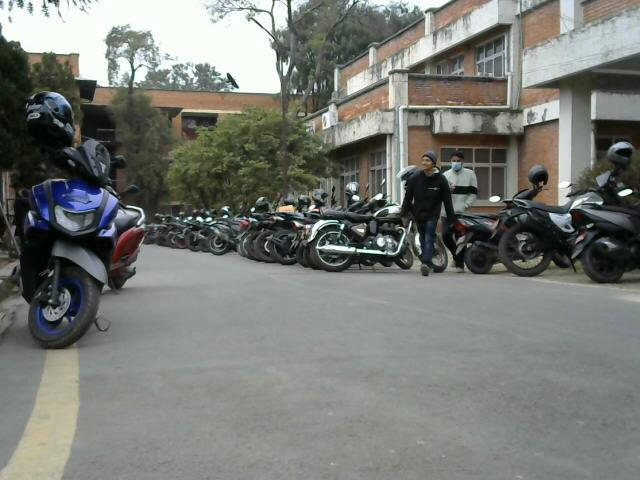Building: (321, 6, 635, 172)
Motorcycle: (139, 196, 481, 300), (21, 89, 147, 353)
Person: (404, 151, 451, 292)
Road: (96, 247, 576, 480)
Tree: (155, 113, 331, 205), (106, 17, 254, 96)
